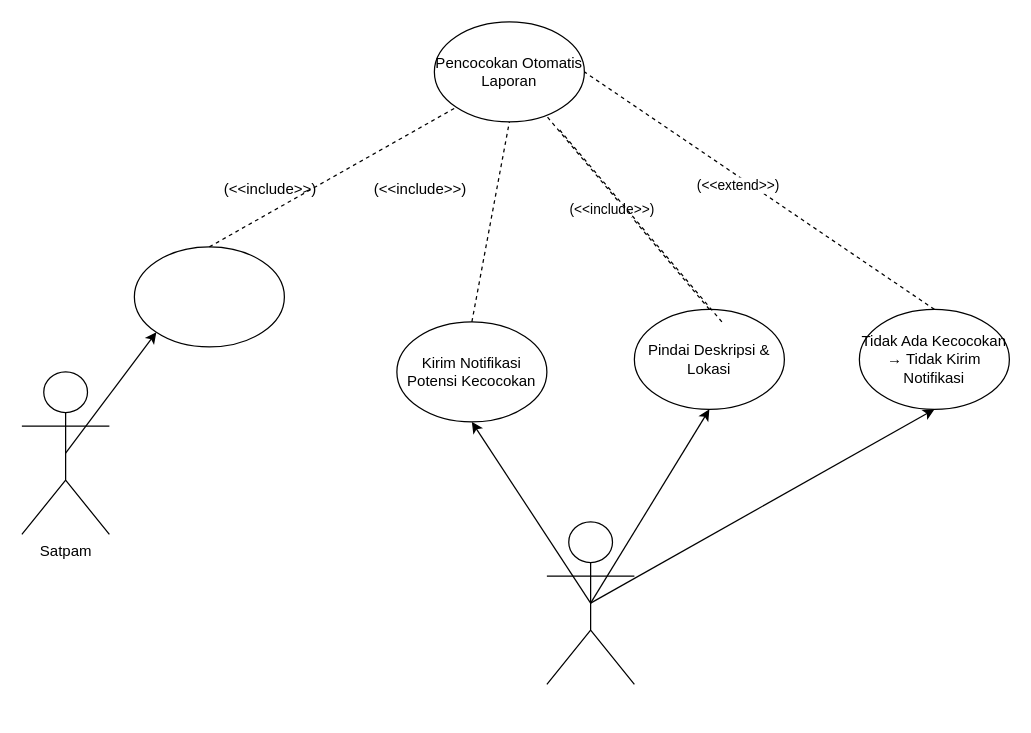
Some shapes in this 1031 by 733 pixel diagram are drawn without their labels. The centre of each missing label's shape, as x and y in pixels:
"Sistem" belongs at (x=590, y=602).
"Verifikasi Manual oleh Satpam" belongs at (x=208, y=296).
